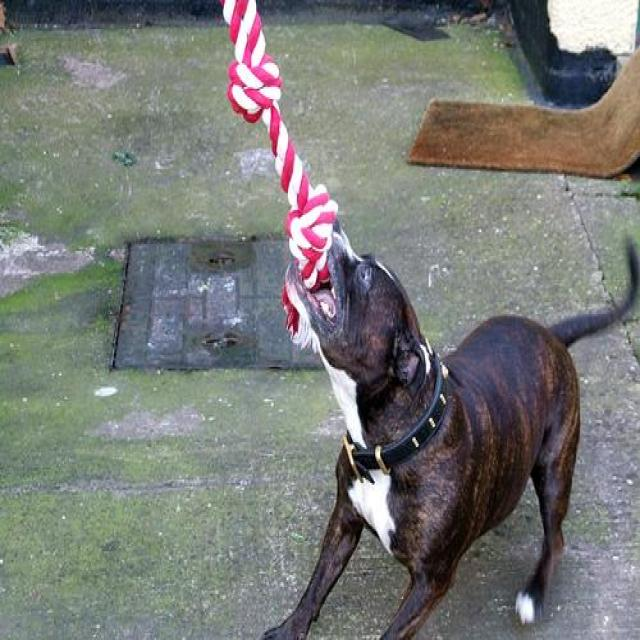staffordshire_bullterrier: (265, 222, 639, 638)
